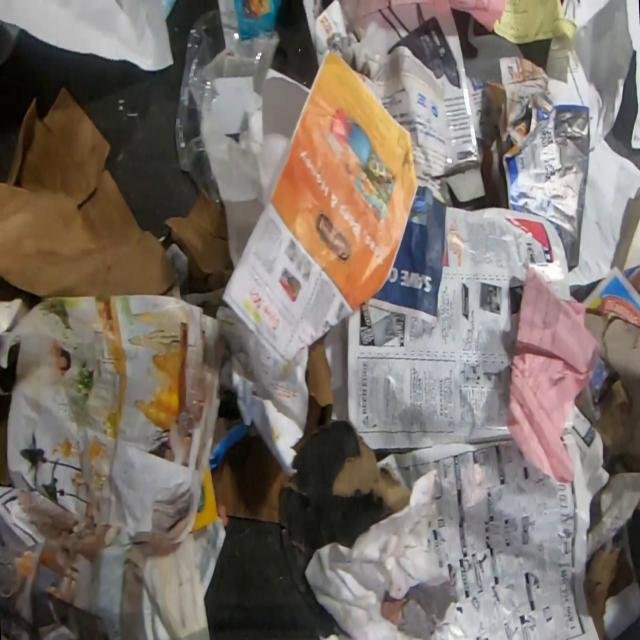cardboard: (0, 84, 180, 300), (280, 418, 412, 618), (560, 400, 640, 640), (575, 312, 640, 474), (438, 74, 496, 206), (162, 192, 235, 296), (211, 435, 292, 525), (290, 332, 334, 455), (582, 540, 634, 640)
soft_plastic: (174, 5, 268, 270)
